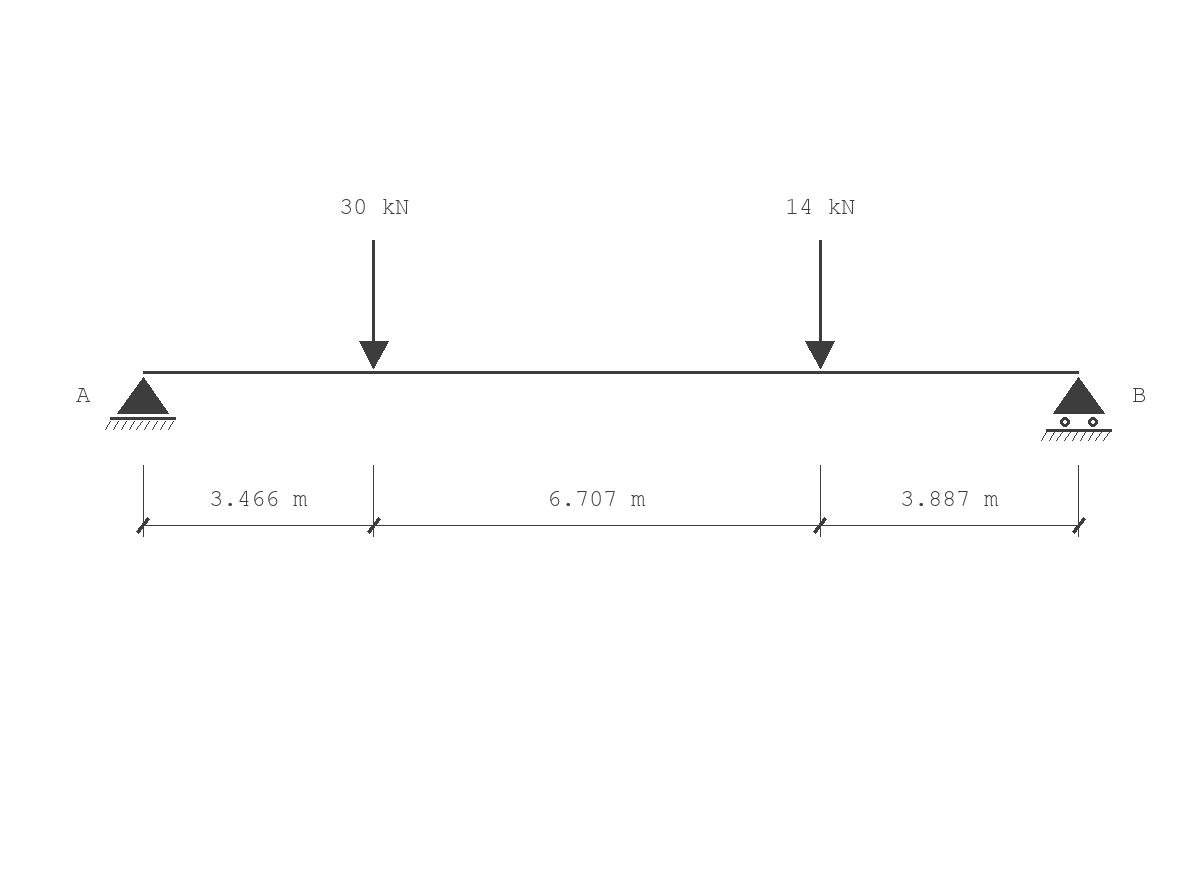pin_support: (105, 377, 176, 430)
point_load: (359, 240, 389, 369), (805, 240, 835, 369)
roller_support: (1041, 377, 1112, 441)
